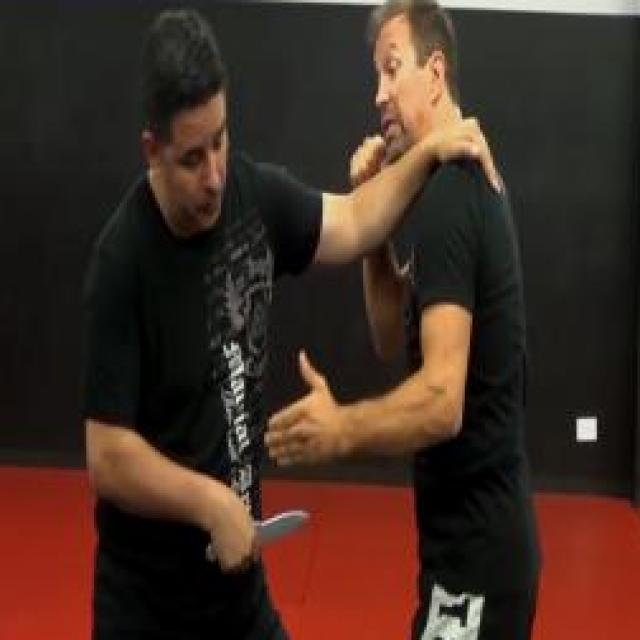knife: (203, 500, 314, 579)
